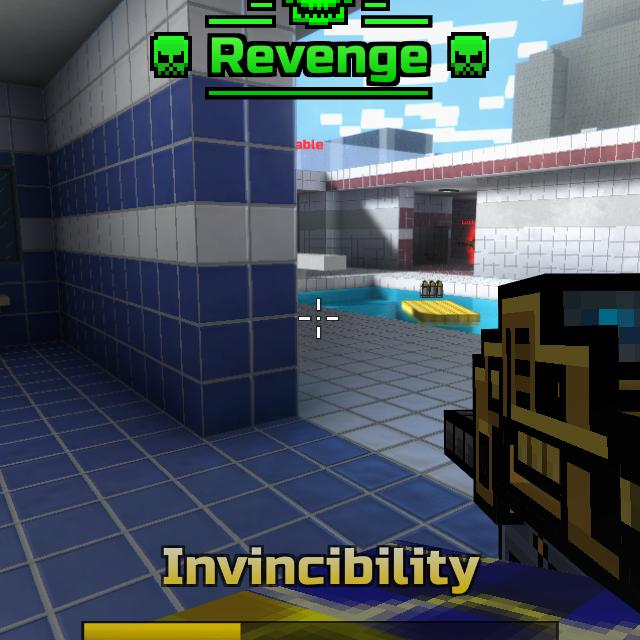Enemy: (470, 227, 477, 265)
